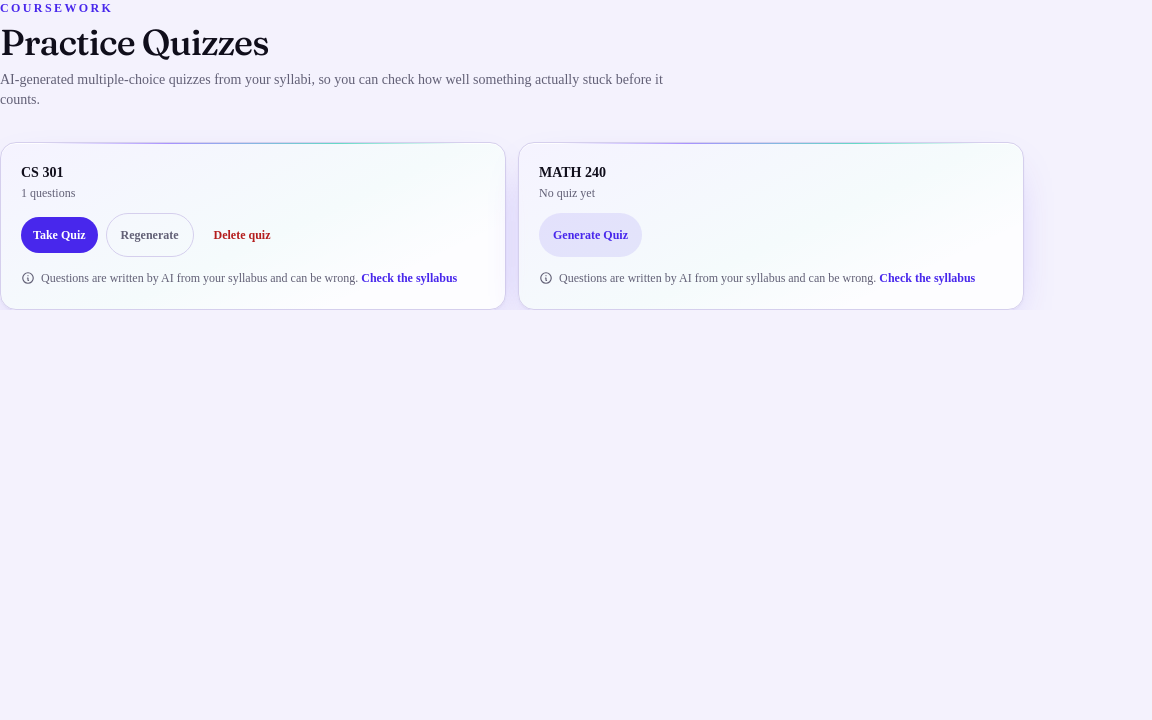
Test: QuizzesView › opens the quiz session when Take Quiz is pressed and closes it again
What coordinates should you click on to do the following:
click the button "Take Quiz"
I would click on:
 (59, 235)
Its box is [21,217,98,253].
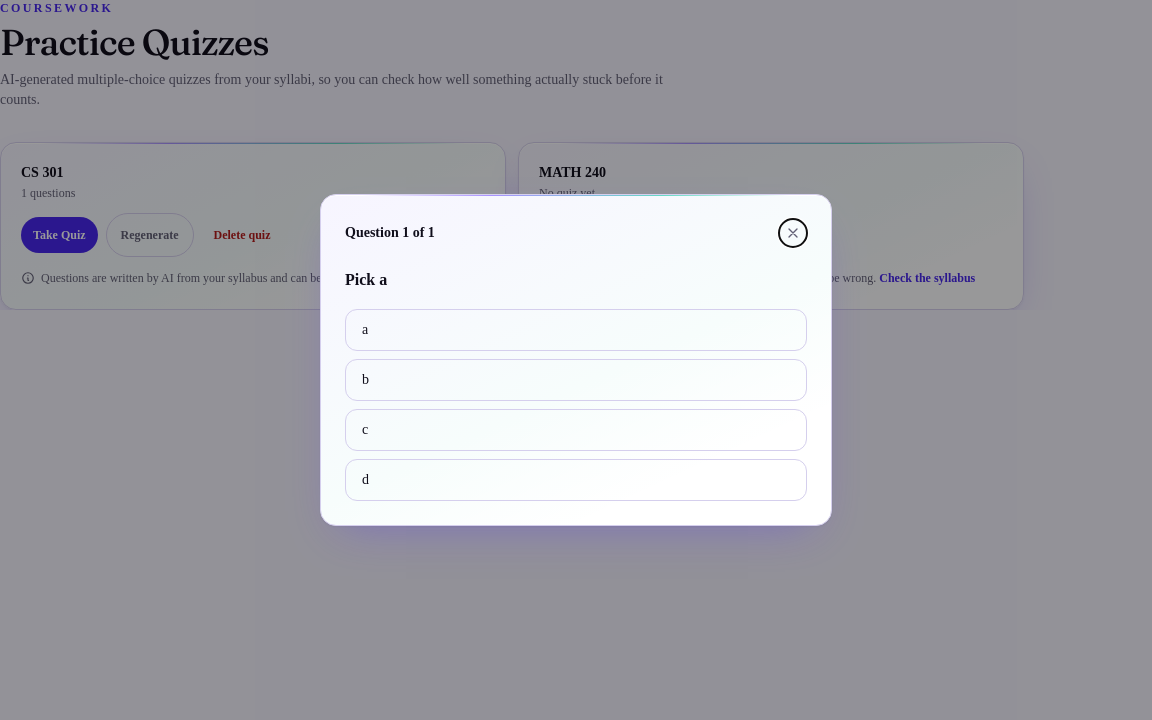
Now the dialog is shown
Now the text "Pick a" is shown, box [345,271,387,288]
What coordinates should you click on to do the following:
click the button named "Close quiz"
I would click on:
 (793, 233)
Its box is [779,219,807,247].
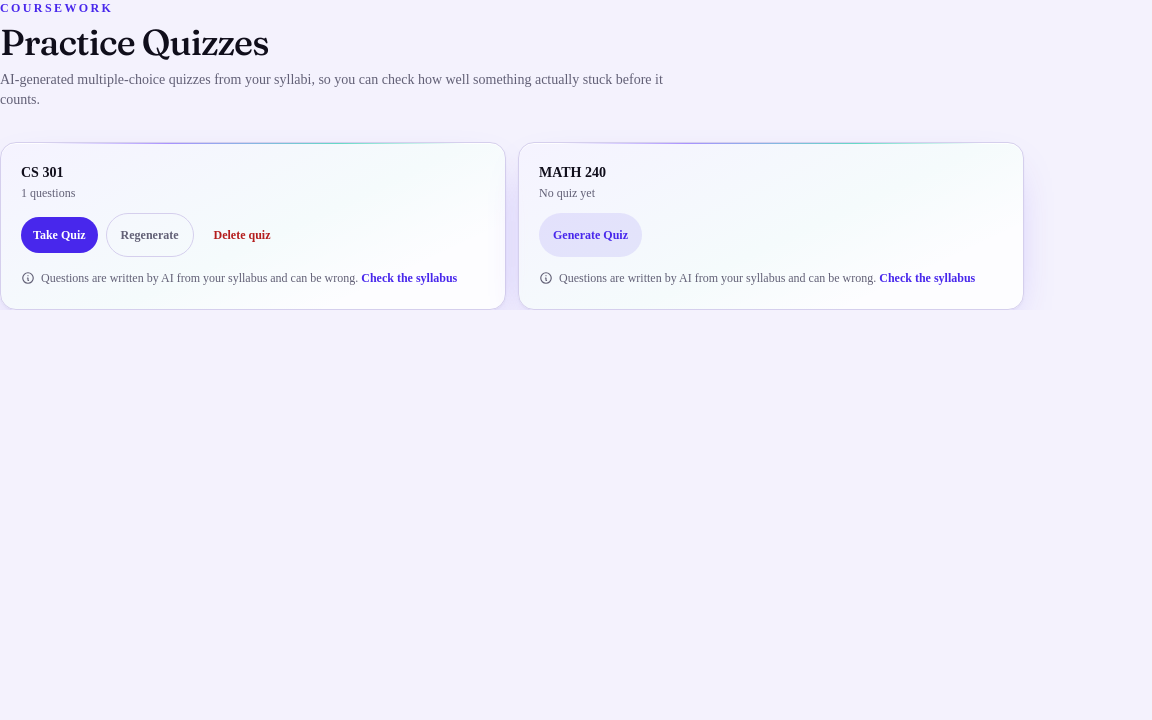
Now the dialog is gone
